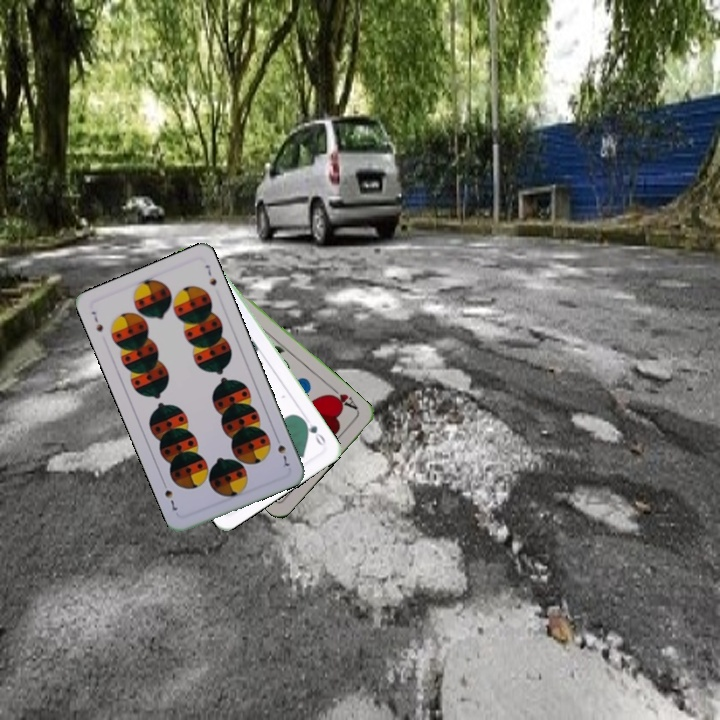GO: (299, 415, 328, 450)
HA: (325, 383, 360, 412)
S7: (271, 432, 292, 469), (87, 307, 106, 335)
